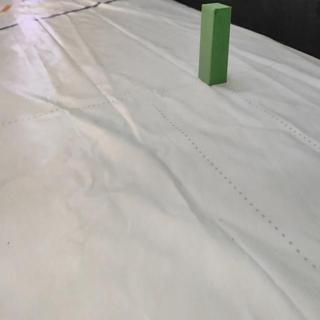greenbox: (199, 3, 231, 84)
